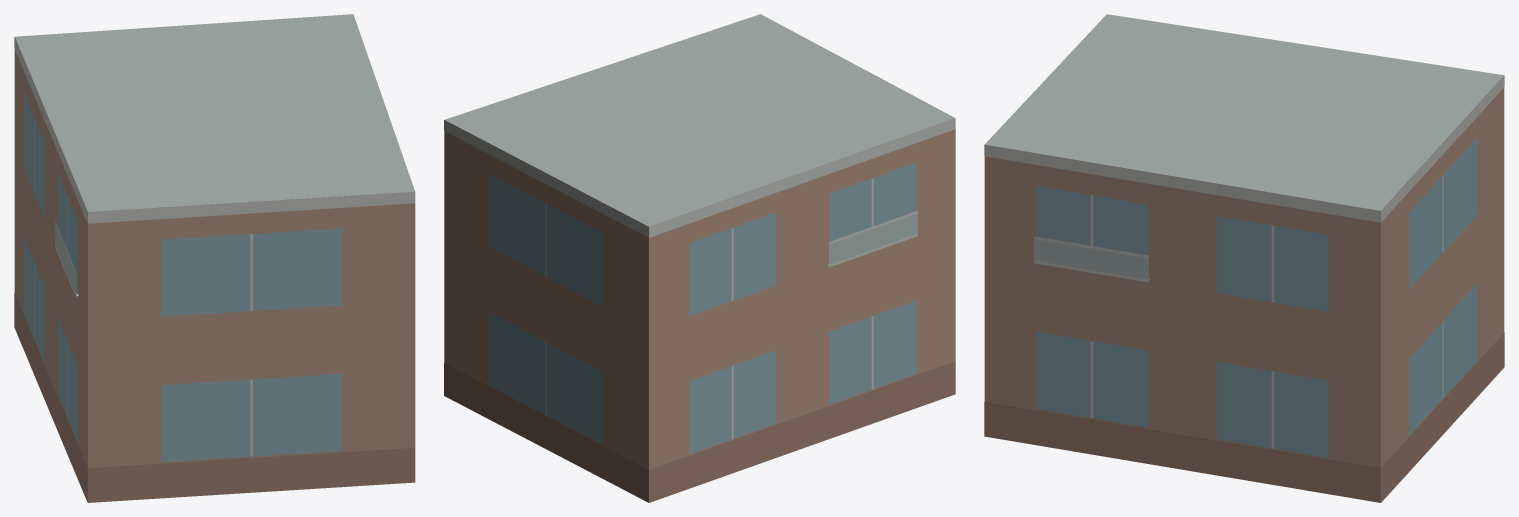
File: survey-upis-32987540.glb
3 views of the same model, side by side, from view 1: azimuth 30°, elevation 25°; view 2: azimuth 150°, elevation 25°; view 3: azimuth 270°, elevation 25° (orthographic). The views are drawn at different scales.
Parts seen in each view (by area): view 1: survey-upis-32987540.tmp; view 2: survey-upis-32987540.tmp; view 3: survey-upis-32987540.tmp.
Boxes of the visible parts, left/top/right/bottom form: survey-upis-32987540.tmp: left=14, top=14, right=415, bottom=502; survey-upis-32987540.tmp: left=444, top=14, right=955, bottom=502; survey-upis-32987540.tmp: left=984, top=14, right=1504, bottom=502.
Size of the model in its own units: 8.84 by 6.1 by 9.86.
